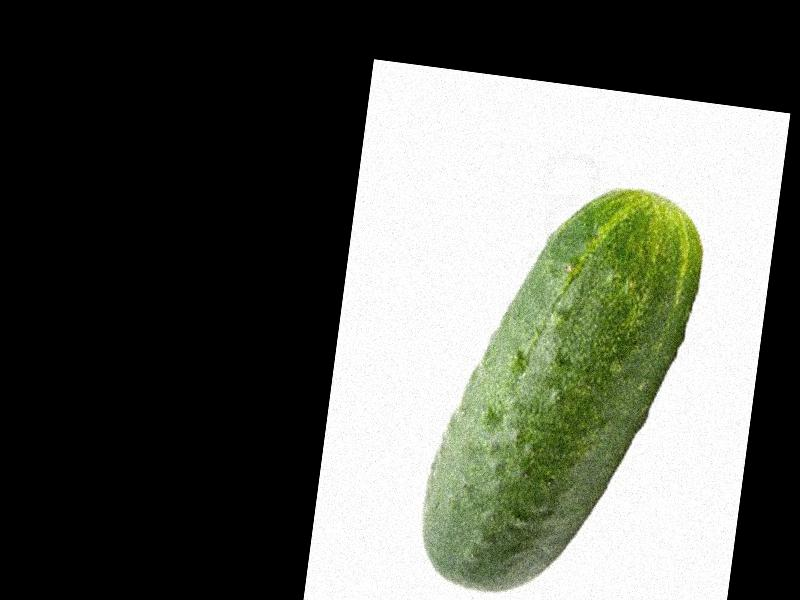Cucumber: (412, 166, 707, 600)
